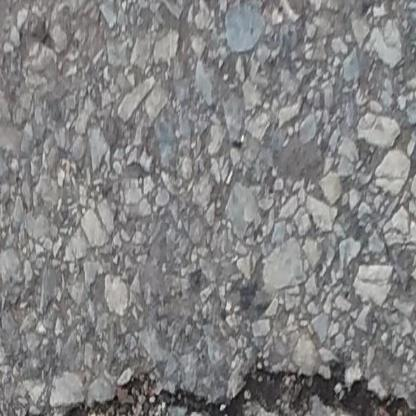Cracks: (13, 359, 416, 416)
